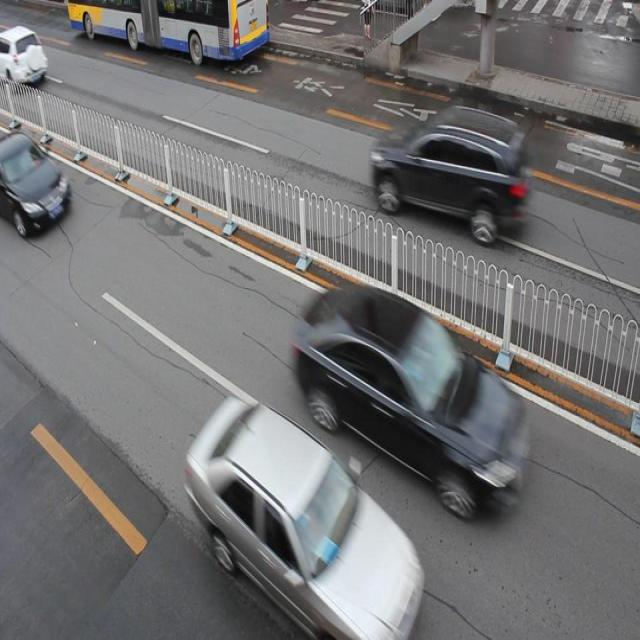car: (186, 397, 421, 640), (298, 282, 526, 512), (372, 103, 525, 240), (0, 130, 70, 234), (1, 26, 48, 90)
van: (70, 1, 271, 66)
